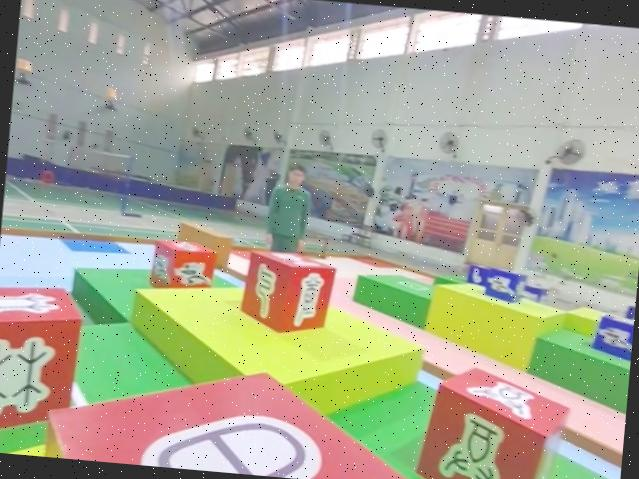R1: (145, 232, 219, 298)
R2 Fake: (39, 347, 438, 479), (236, 244, 338, 337)
R2 Real: (412, 356, 575, 479), (0, 277, 86, 450)
